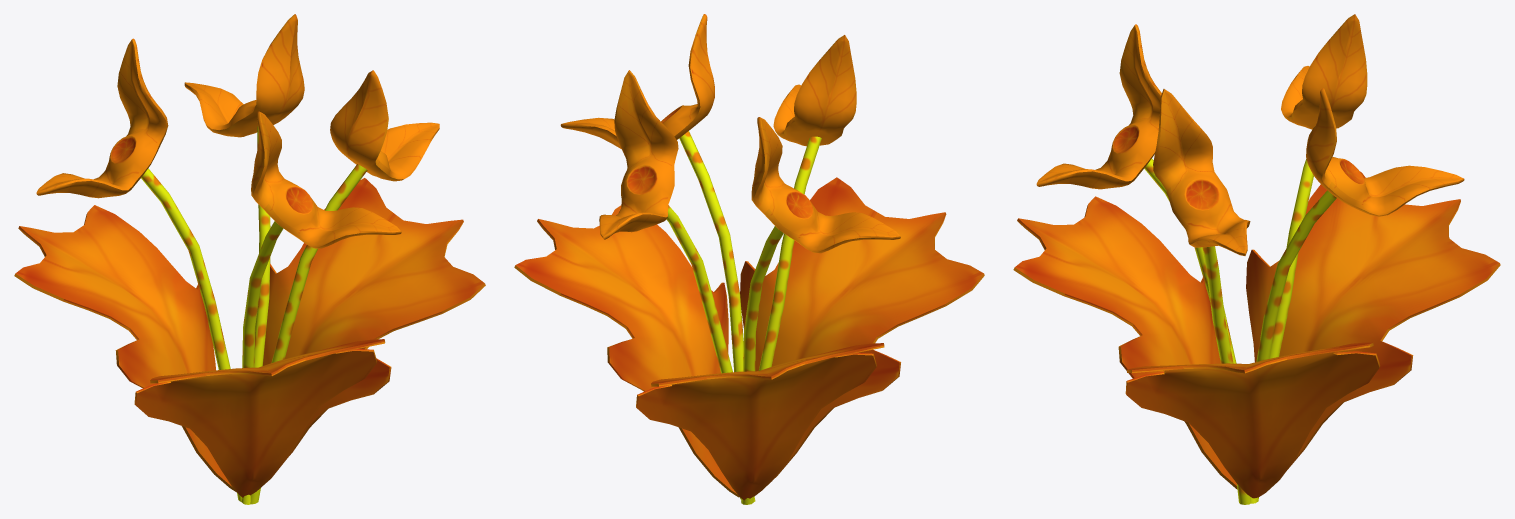
The model's file is FoodPlantPicked.fbx.
The picture shows the model from 3 angles, left to right: view 1: azimuth 30°, elevation 25°; view 2: azimuth 150°, elevation 25°; view 3: azimuth 270°, elevation 25°; orthographic projection. The views are drawn at different scales.
Parts seen in each view (by area): view 1: Cylinder.013; view 2: Cylinder.013; view 3: Cylinder.013.
Part boxes in pixels (<box>): Cylinder.013: <box>14,14,485,504</box>; Cylinder.013: <box>514,14,984,504</box>; Cylinder.013: <box>1013,14,1500,504</box>.
Size of the model in its own units: 88.74 by 93.47 by 90.61.
1 material, 1 textured.
